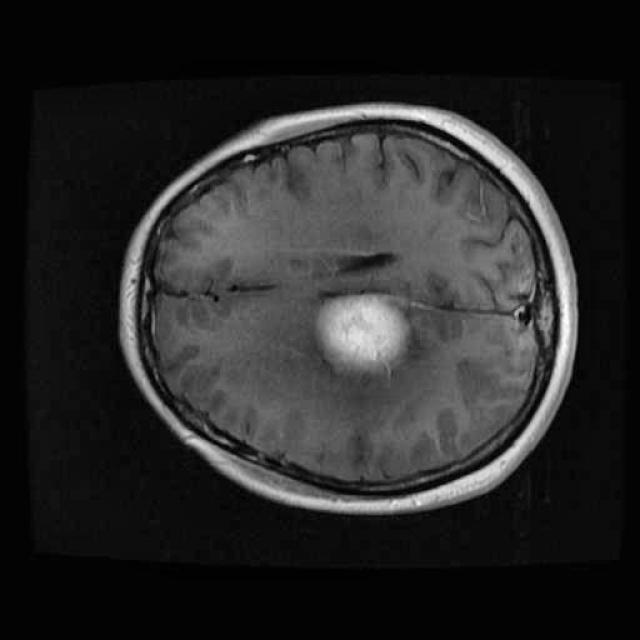Tumor: (306, 289, 422, 385)
